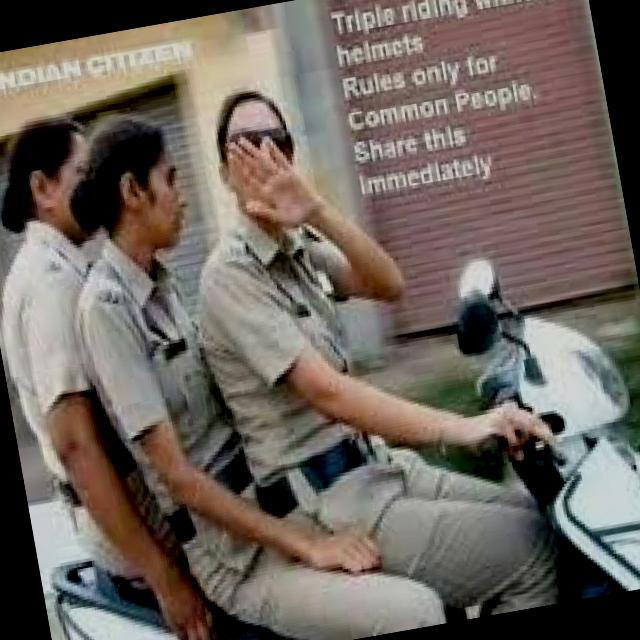motorcycle: (17, 278, 640, 640)
person: (180, 51, 490, 616), (49, 97, 292, 555), (0, 96, 186, 573)
rider_region: (0, 4, 640, 640)
